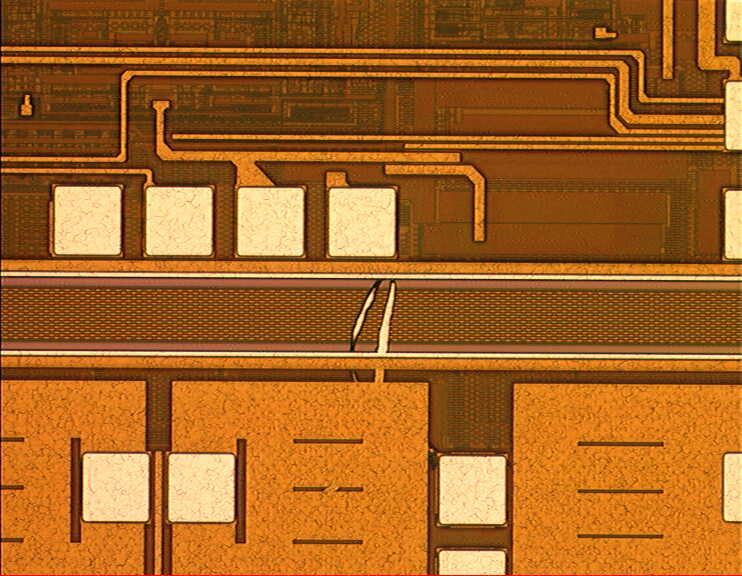BLOCK ETCH: (342, 274, 452, 469)
